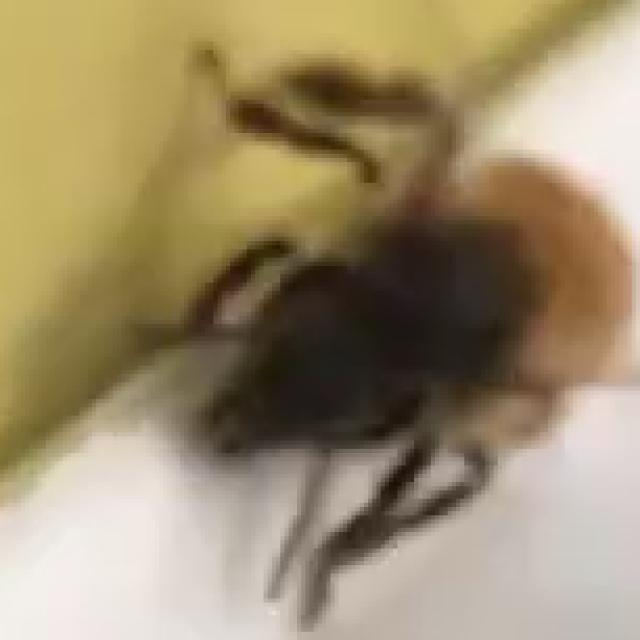honeybee: (128, 49, 606, 627)
